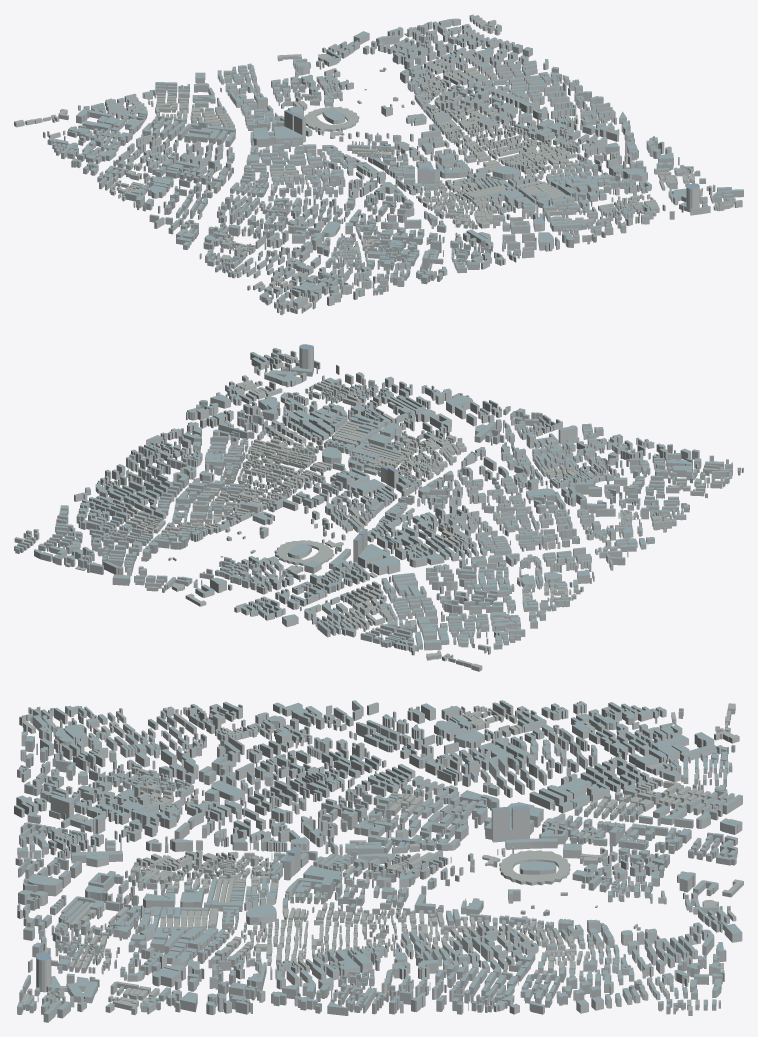
The picture shows the model from 3 angles, top to bottom: view 1: azimuth 30°, elevation 25°; view 2: azimuth 150°, elevation 25°; view 3: azimuth 270°, elevation 25°; orthographic projection. The views are drawn at different scales.
Visible parts, largest first — view 1: 上海全域建筑分块 · mapped building neighborhood; view 2: 上海全域建筑分块 · mapped building neighborhood; view 3: 上海全域建筑分块 · mapped building neighborhood.
Boxes of the visible parts, bbox=[...] form: 上海全域建筑分块 · mapped building neighborhood: bbox=[14, 14, 743, 315]; 上海全域建筑分块 · mapped building neighborhood: bbox=[14, 344, 743, 671]; 上海全域建筑分块 · mapped building neighborhood: bbox=[14, 700, 743, 1022].
Size of the model in its own units: 2174 by 102 by 2132.
